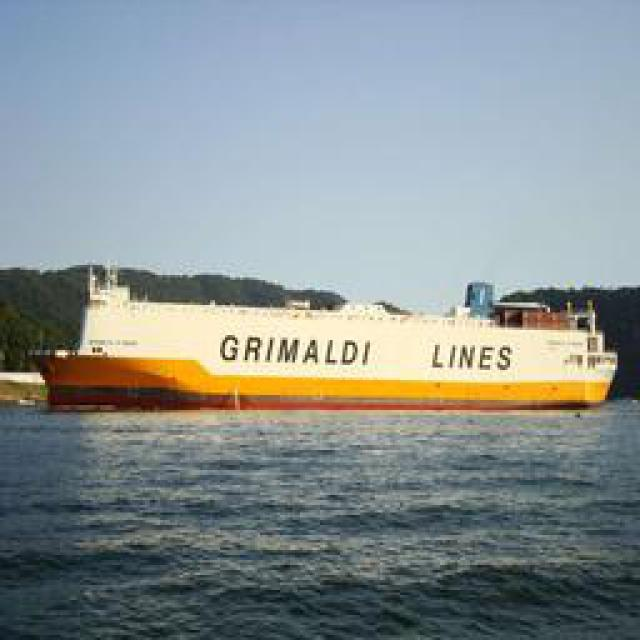Ship: (38, 272, 616, 415)
